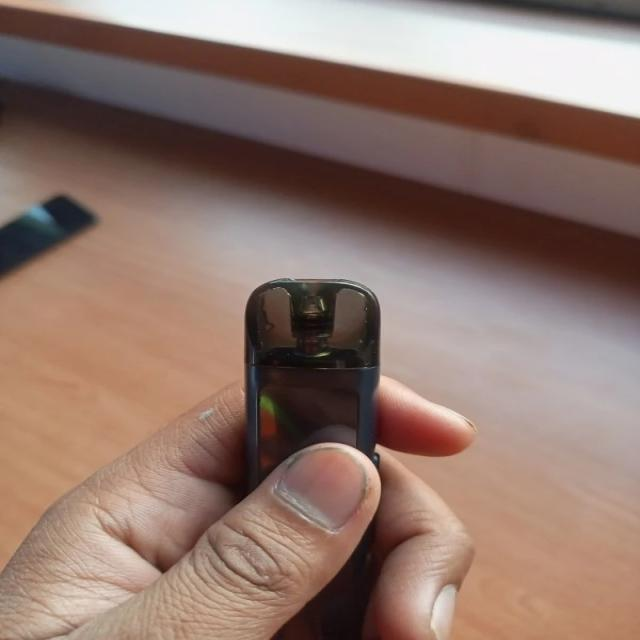Hazard: (239, 273, 382, 640)
